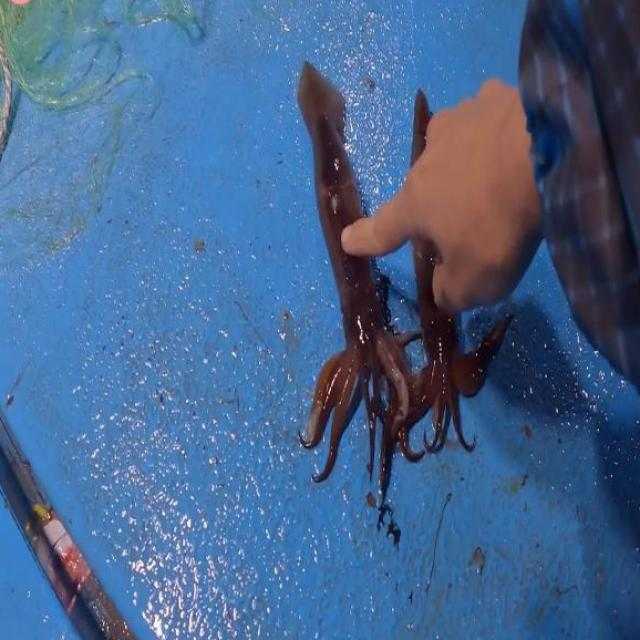SQUID: (271, 51, 422, 497)
